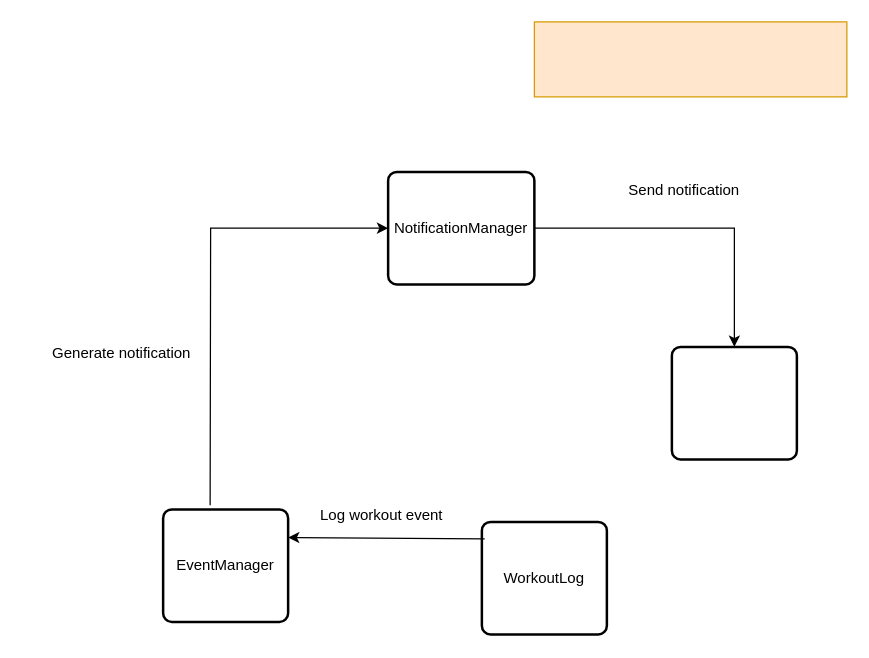
This 869x658 diagram has some shape labels left out. The centre of each missing label's shape, as x and y in pixels:
"THE PROCESS OF EVENT AND NOTIFICATION MANAGEMENT" belongs at (x=690, y=59).
"User" belongs at (x=734, y=402).
